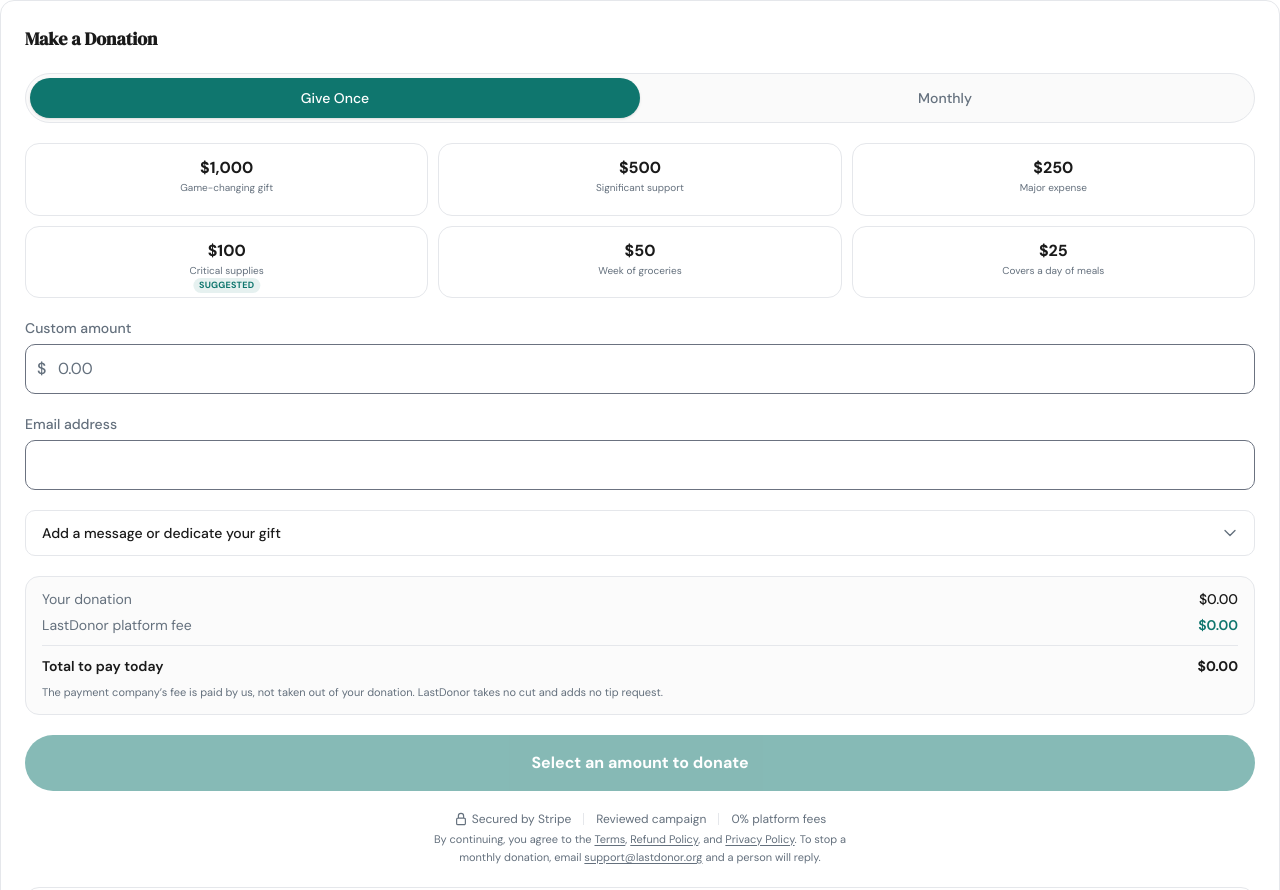
Scenario: DonationForm submit feedback › says something when the network fails
Click the radio button labelled "$25 Covers a day of meals": (1053, 262) 852,226 -> 1255,298
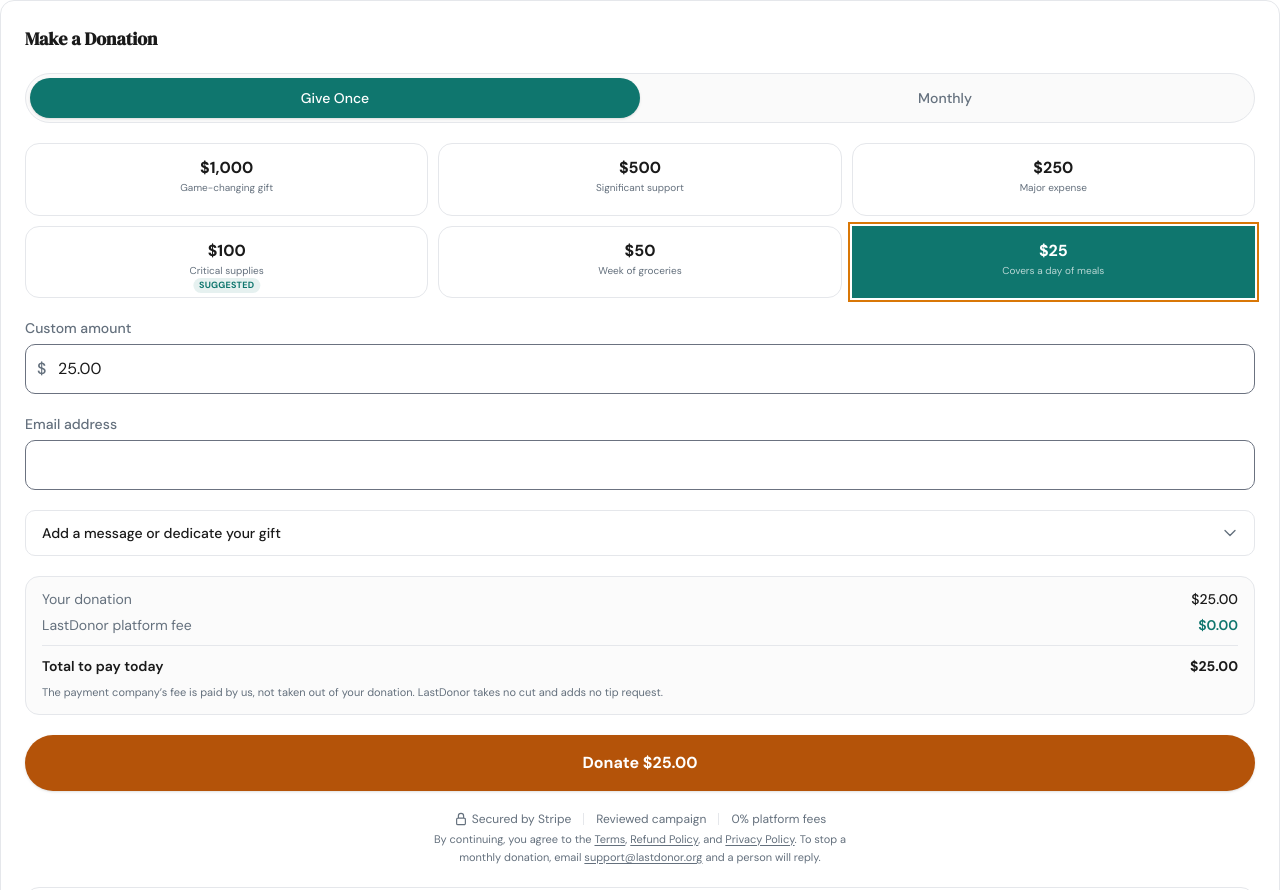
In the field labelled "Email address": (640, 465) 25,440 -> 1255,490, type "donor@example.com"
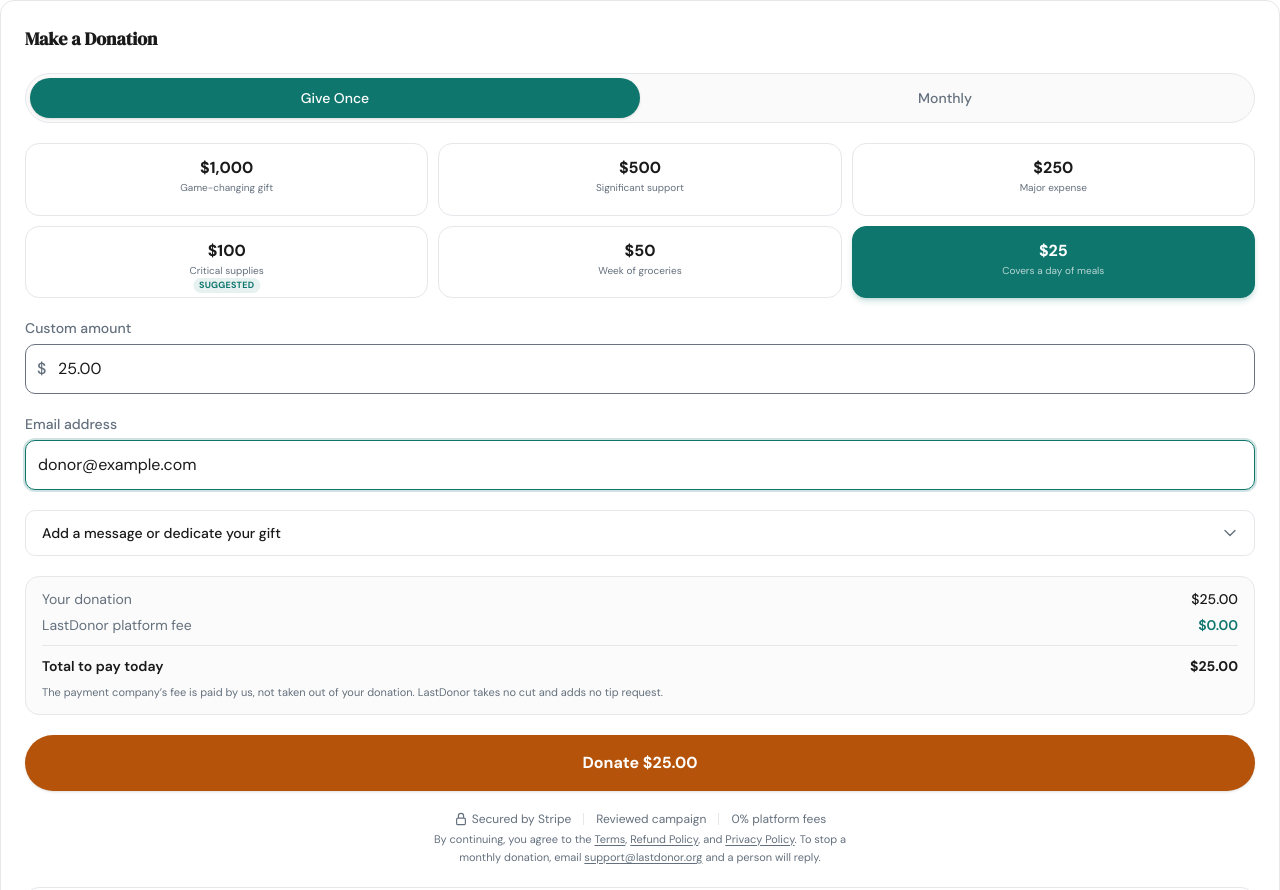
Click the button "Donate $25.00": (640, 763) 25,735 -> 1255,791
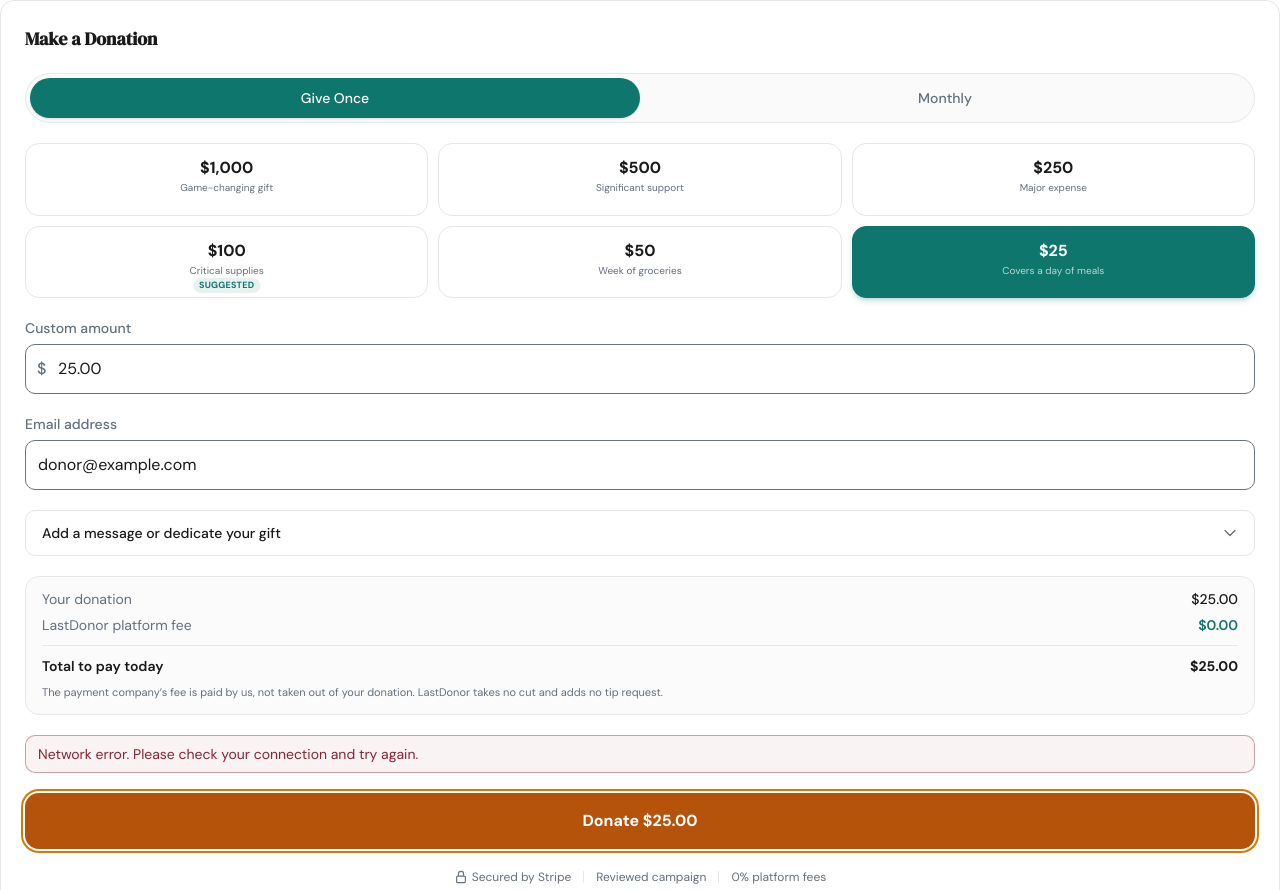
Check: the message shows "Network error", box 38,745 -> 418,763
